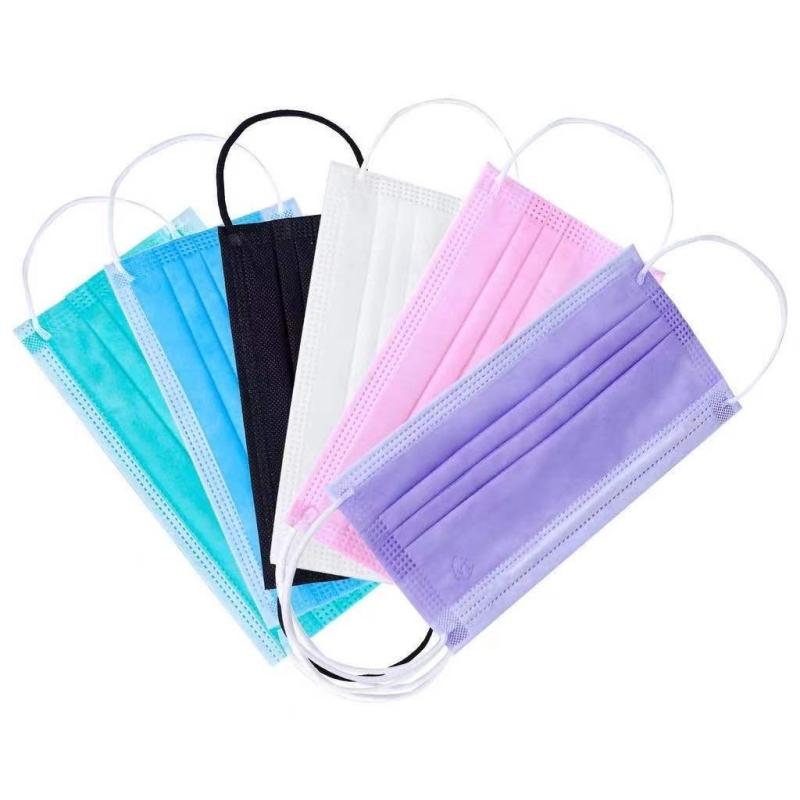facemask: (327, 232, 789, 654), (287, 117, 676, 529), (13, 194, 288, 664), (278, 99, 517, 515), (105, 132, 279, 630), (216, 110, 364, 592)
